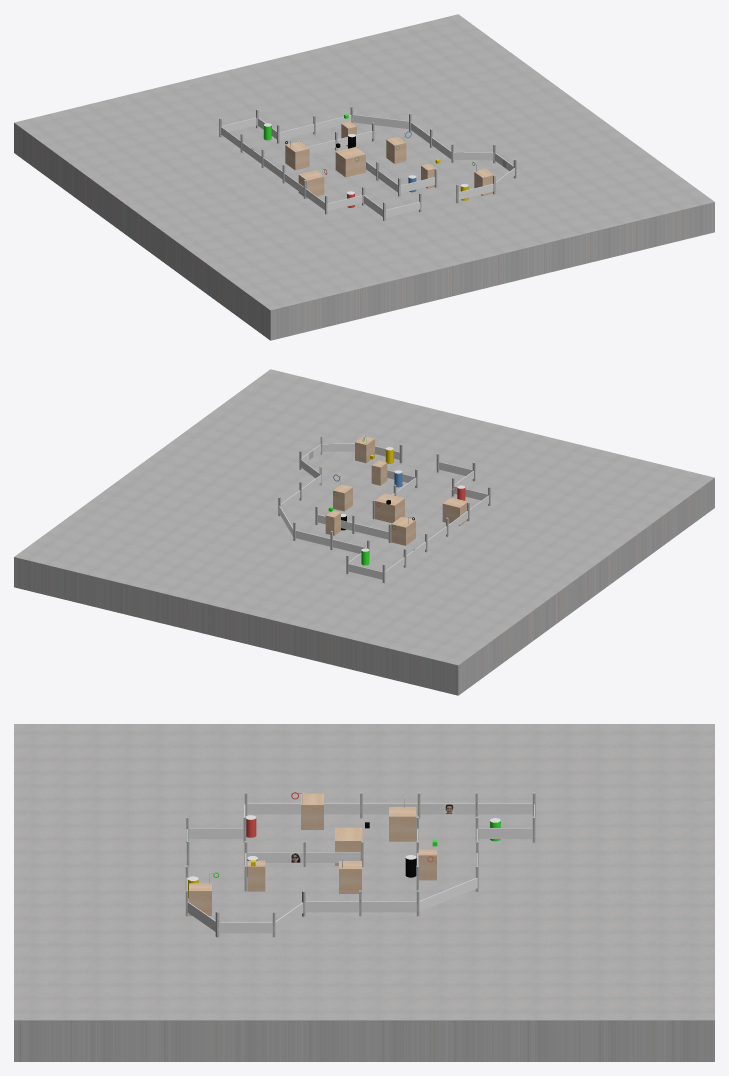
File: map.dae
The picture shows the model from 3 angles, top to bottom: view 1: azimuth 30°, elevation 25°; view 2: azimuth 150°, elevation 25°; view 3: azimuth 270°, elevation 25°; orthographic projection. The views are drawn at different scales.
Parts seen in each view (by area): view 1: main; view 2: main; view 3: main.
Boxes of the visible parts, box(x1,y1,x2,y2) form: main: box(14, 14, 714, 340); main: box(14, 369, 714, 695); main: box(14, 724, 714, 1061).
Bounding box in the file's own units: 15.34 × 15.34 × 1.92.
